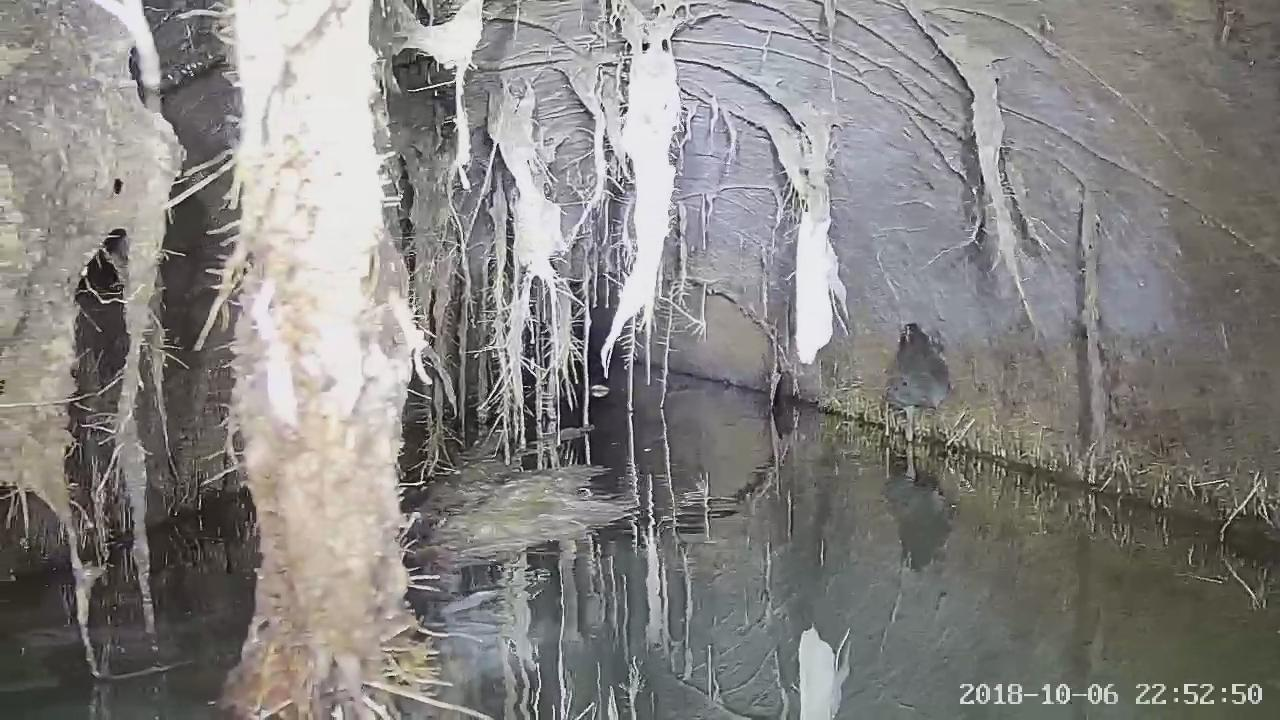SG: (195, 0, 718, 719), (0, 0, 199, 679), (922, 22, 1034, 319), (749, 92, 848, 399)
